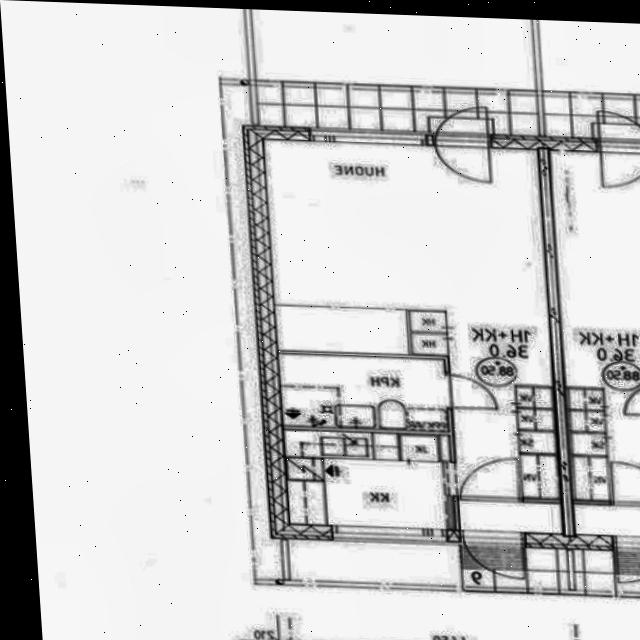room: (284, 431, 457, 528), (279, 354, 449, 430)
